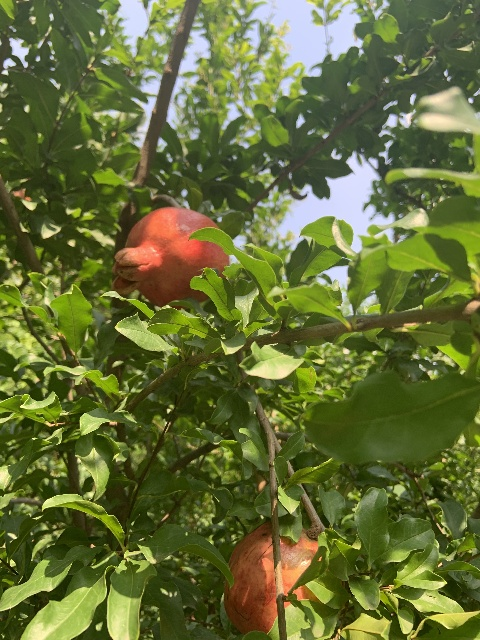ripe: (111, 207, 230, 307), (223, 522, 320, 636)
